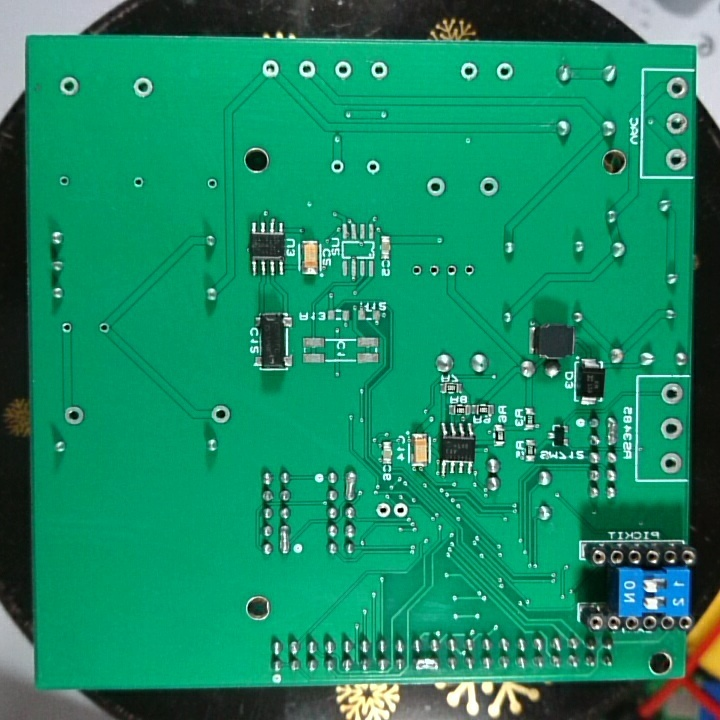F: (663, 108, 690, 139), (664, 72, 691, 102), (130, 73, 156, 100), (659, 415, 683, 444), (664, 146, 690, 172), (61, 402, 88, 427), (659, 381, 684, 407), (423, 173, 449, 198), (475, 175, 503, 198), (659, 449, 684, 474), (208, 401, 233, 425), (57, 74, 81, 98), (332, 57, 355, 82), (297, 56, 319, 82), (457, 59, 481, 82), (368, 58, 390, 81), (259, 58, 281, 80), (494, 60, 515, 82), (375, 500, 393, 523), (364, 156, 382, 178), (393, 500, 410, 521), (329, 156, 347, 175), (59, 318, 76, 337), (130, 173, 147, 192), (443, 260, 460, 279), (461, 259, 477, 279), (203, 175, 221, 192), (56, 172, 71, 191), (427, 260, 441, 278), (96, 319, 110, 335), (411, 262, 424, 279)
P: (412, 653, 444, 674), (604, 412, 619, 449), (343, 469, 359, 503), (276, 523, 292, 556)
